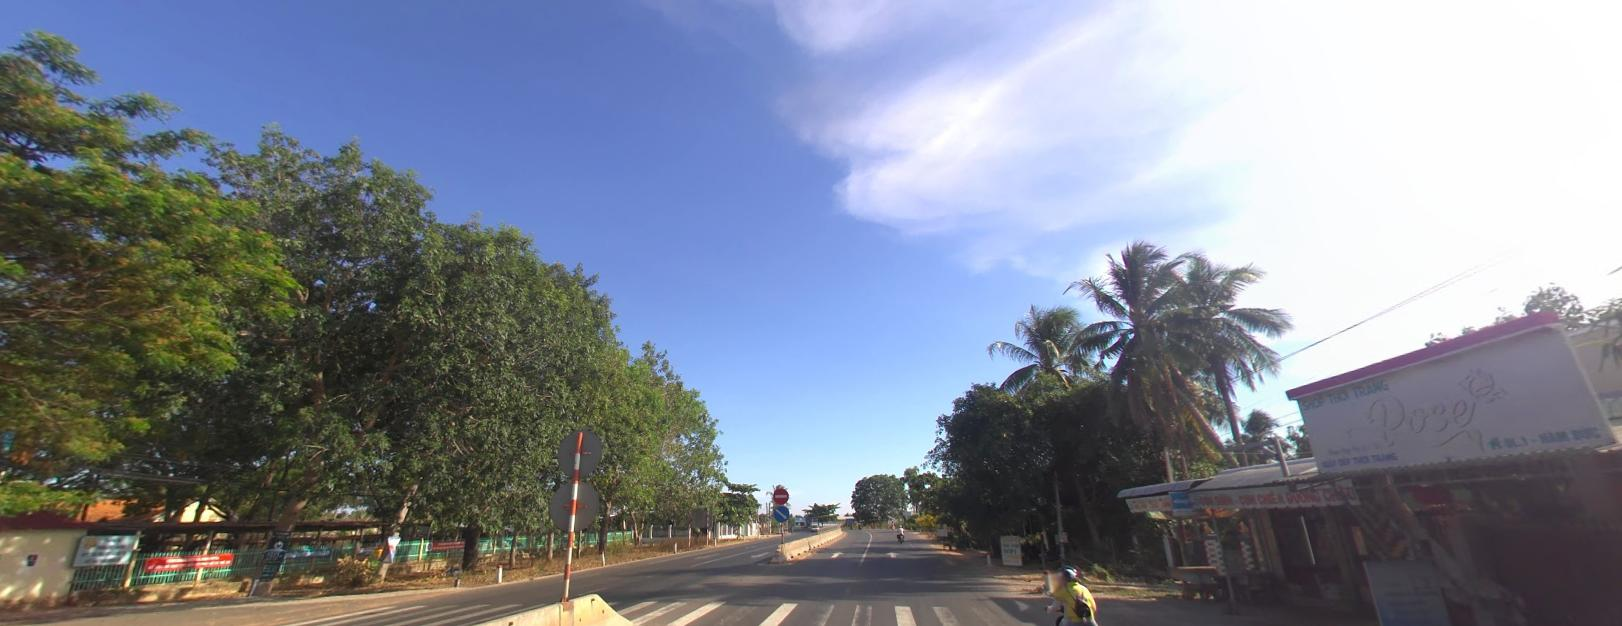Cam nguoc chieu: (773, 488, 788, 503)
Hieu lenh: (774, 504, 788, 521)
